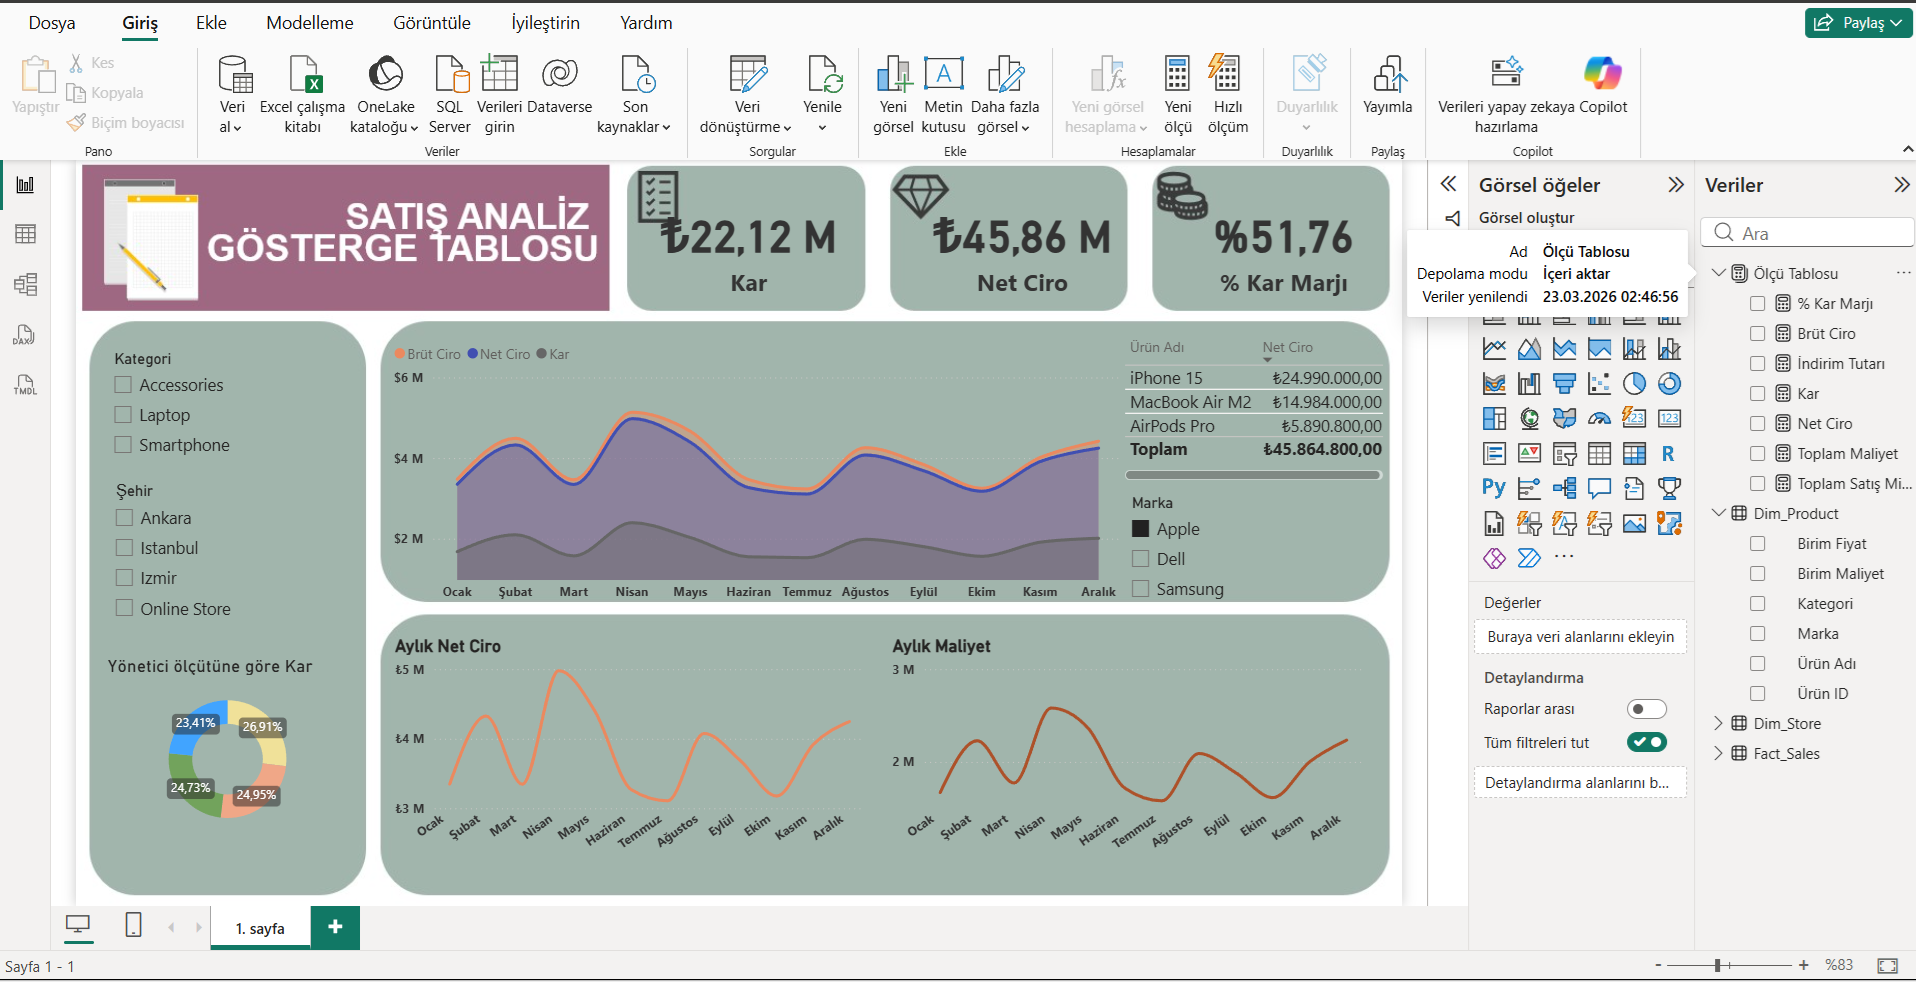

What the dashboard file says about the page in this screenshot:
{"tool":"powerbi","page":{"name":"1. sayfa","canvas":[1280,720],"ordinal":0},"visuals":[{"type":"card","fields":{"Values":["Ölçü Tablosu.Kar"]},"box":[549.4,27.2,201.2,113.6],"z":0},{"type":"card","fields":{"Values":["Ölçü Tablosu.Net Ciro"]},"box":[813.6,27.2,201.2,113.6],"z":1000},{"type":"card","fields":{"Values":["Ölçü Tablosu.% Kar Marjı"]},"box":[1065.4,27.2,201.2,113.6],"z":2000},{"type":"areaChart","fields":{"Category":["Fact_Sales.Tarih.Varyasyon.Tarih Hiyerarşisi.Ay"],"Y":["Ölçü Tablosu.Brüt Ciro","Ölçü Tablosu.Net Ciro","Ölçü Tablosu.Kar"]},"box":[301.6,166.5,713,267.8],"z":3000},{"type":"tableEx","fields":{"Values":["Dim_Product.Ürün Adı","Ölçü Tablosu.Net Ciro"]},"box":[1006.2,166.5,260.6,147.2],"z":4000},{"type":"slicer","fields":{"Values":["Dim_Product.Marka"]},"box":[1006.2,317.3,229.2,117],"z":5000},{"type":"lineChart","title":"Aylık Net Ciro ","fields":{"Category":["Fact_Sales.Tarih.Varyasyon.Tarih Hiyerarşisi.Ay"],"Y":["Ölçü Tablosu.Net Ciro"]},"box":[302.2,458.1,462.9,227.5],"z":6000},{"type":"lineChart","title":"Aylık Maliyet","fields":{"Category":["Fact_Sales.Tarih.Varyasyon.Tarih Hiyerarşisi.Ay"],"Y":["Ölçü Tablosu.Toplam Maliyet"]},"box":[782.6,458.1,462.9,227.5],"z":7000},{"type":"slicer","fields":{"Values":["Dim_Product.Kategori"]},"box":[23.9,178.1,243.4,136.8],"z":8000},{"type":"slicer","fields":{"Values":["Dim_Store.Şehir"]},"box":[25,305.8,242.3,150],"z":9000},{"type":"donutChart","fields":{"Category":["Dim_Store.Yönetici"],"Y":["Ölçü Tablosu.Kar"]},"box":[25,477.8,242.2,182.2],"z":10000}]}

Visuals, with their boxes on the page's 1280x720 design canvas (x1, y1, x2, y2). These are canvas units, not pixel positions in the 1916x982 screenshot, which may show the page scaled, cropped or inside an application window:
card - Ölçü Tablosu.Kar: select_region(549, 27, 751, 141)
card - Ölçü Tablosu.Net Ciro: select_region(814, 27, 1015, 141)
card - Ölçü Tablosu.% Kar Marjı: select_region(1065, 27, 1267, 141)
areaChart - Fact_Sales.Tarih.Varyasyon.Tarih Hiyerarşisi.Ay x Ölçü Tablosu.Brüt Ciro: select_region(302, 166, 1015, 434)
tableEx - Dim_Product.Ürün Adı x Ölçü Tablosu.Net Ciro: select_region(1006, 166, 1267, 314)
slicer - Dim_Product.Marka: select_region(1006, 317, 1235, 434)
"Aylık Net Ciro " lineChart: select_region(302, 458, 765, 686)
"Aylık Maliyet" lineChart: select_region(783, 458, 1246, 686)
slicer - Dim_Product.Kategori: select_region(24, 178, 267, 315)
slicer - Dim_Store.Şehir: select_region(25, 306, 267, 456)
donutChart - Dim_Store.Yönetici x Ölçü Tablosu.Kar: select_region(25, 478, 267, 660)
